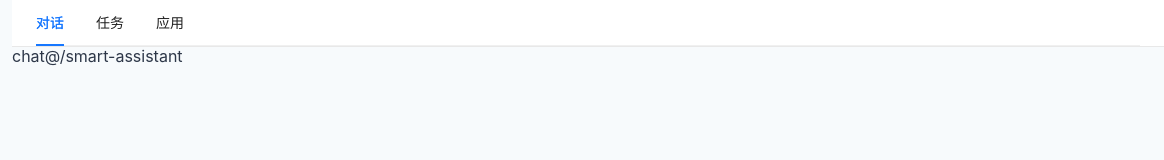
Test: SmartAssistantLayout(S2-2 智能助手统一入口) › 切换标签会改变路由
What coordinates should you click on to do the following:
click the tab "任务"
I would click on:
 (110, 23)
Its box is x1=96 y1=12 x2=124 y2=34.
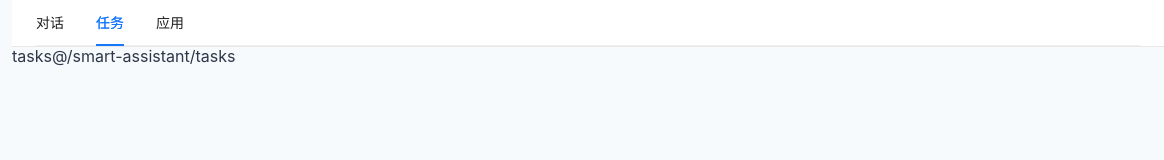
Now the text with test id "page" reads "tasks@/smart-assistant/tasks", box x1=12 y1=47 x2=236 y2=66
